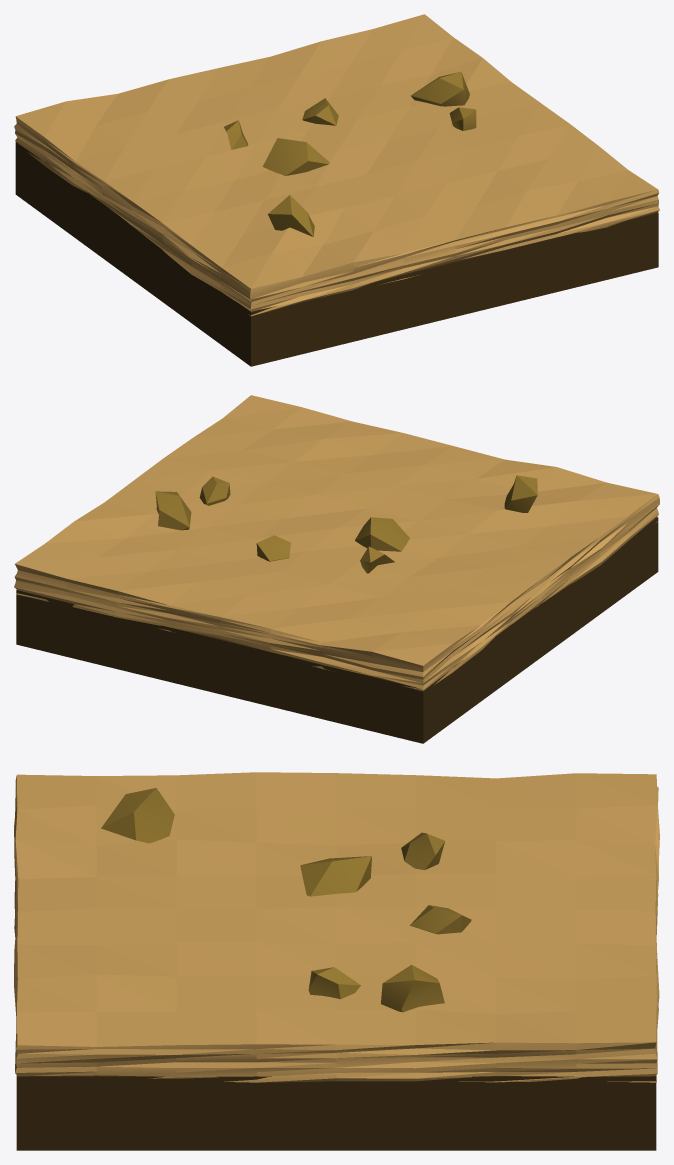
The model's file is FLOOR11.fbx.
3 renders of one model, top to bottom at view 1: azimuth 30°, elevation 25°; view 2: azimuth 150°, elevation 25°; view 3: azimuth 270°, elevation 25°, orthographic. The views are drawn at different scales.
Parts seen in each view (by area): view 1: Cube_2, Cube, Cube_1, Platonic_2, Platonic, Platonic_1, Platonic_4, Platonic_3; view 2: Cube_2, Cube, Cube_1, Platonic_2, Platonic, Platonic_1, Platonic_4, Platonic_3; view 3: Cube_2, Cube, Cube_1, Platonic_1, Platonic_2, Platonic, Platonic_4, Platonic_3, Platonic_1_2.
Boxes of the visible parts, x1,y1,x2,y2 form: Cube_2: (14,14,659,316); Cube: (15,167,658,366); Cube_1: (15,142,658,339); Platonic_2: (262,138,329,175); Platonic: (411,71,469,106); Platonic_1: (268,195,314,236); Platonic_4: (302,98,338,125); Platonic_3: (449,107,476,130); Cube_2: (14,395,659,691); Cube: (16,545,658,743); Cube_1: (16,517,658,716); Platonic_2: (355,517,409,551); Platonic: (155,491,191,530); Platonic_1: (504,475,537,512); Platonic_4: (256,535,290,561); Platonic_3: (199,476,230,505); Cube_2: (14,772,659,1082); Cube: (16,1113,656,1150); Cube_1: (16,1075,656,1113); Platonic_1: (101,788,174,843); Platonic_2: (300,856,371,896); Platonic: (381,964,444,1012); Platonic_4: (410,905,471,934); Platonic_3: (308,967,360,999); Platonic_1_2: (401,832,444,869).
Bounding box in the file's own units: 405 × 105 × 404.
